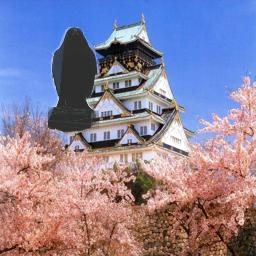Crow: (48, 27, 99, 133)
